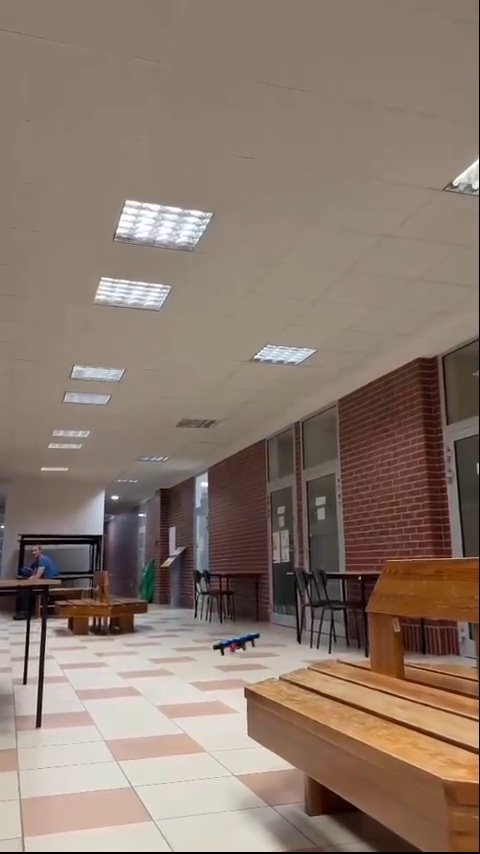drone: (213, 631, 260, 656)
no vest: (23, 530, 51, 596)
